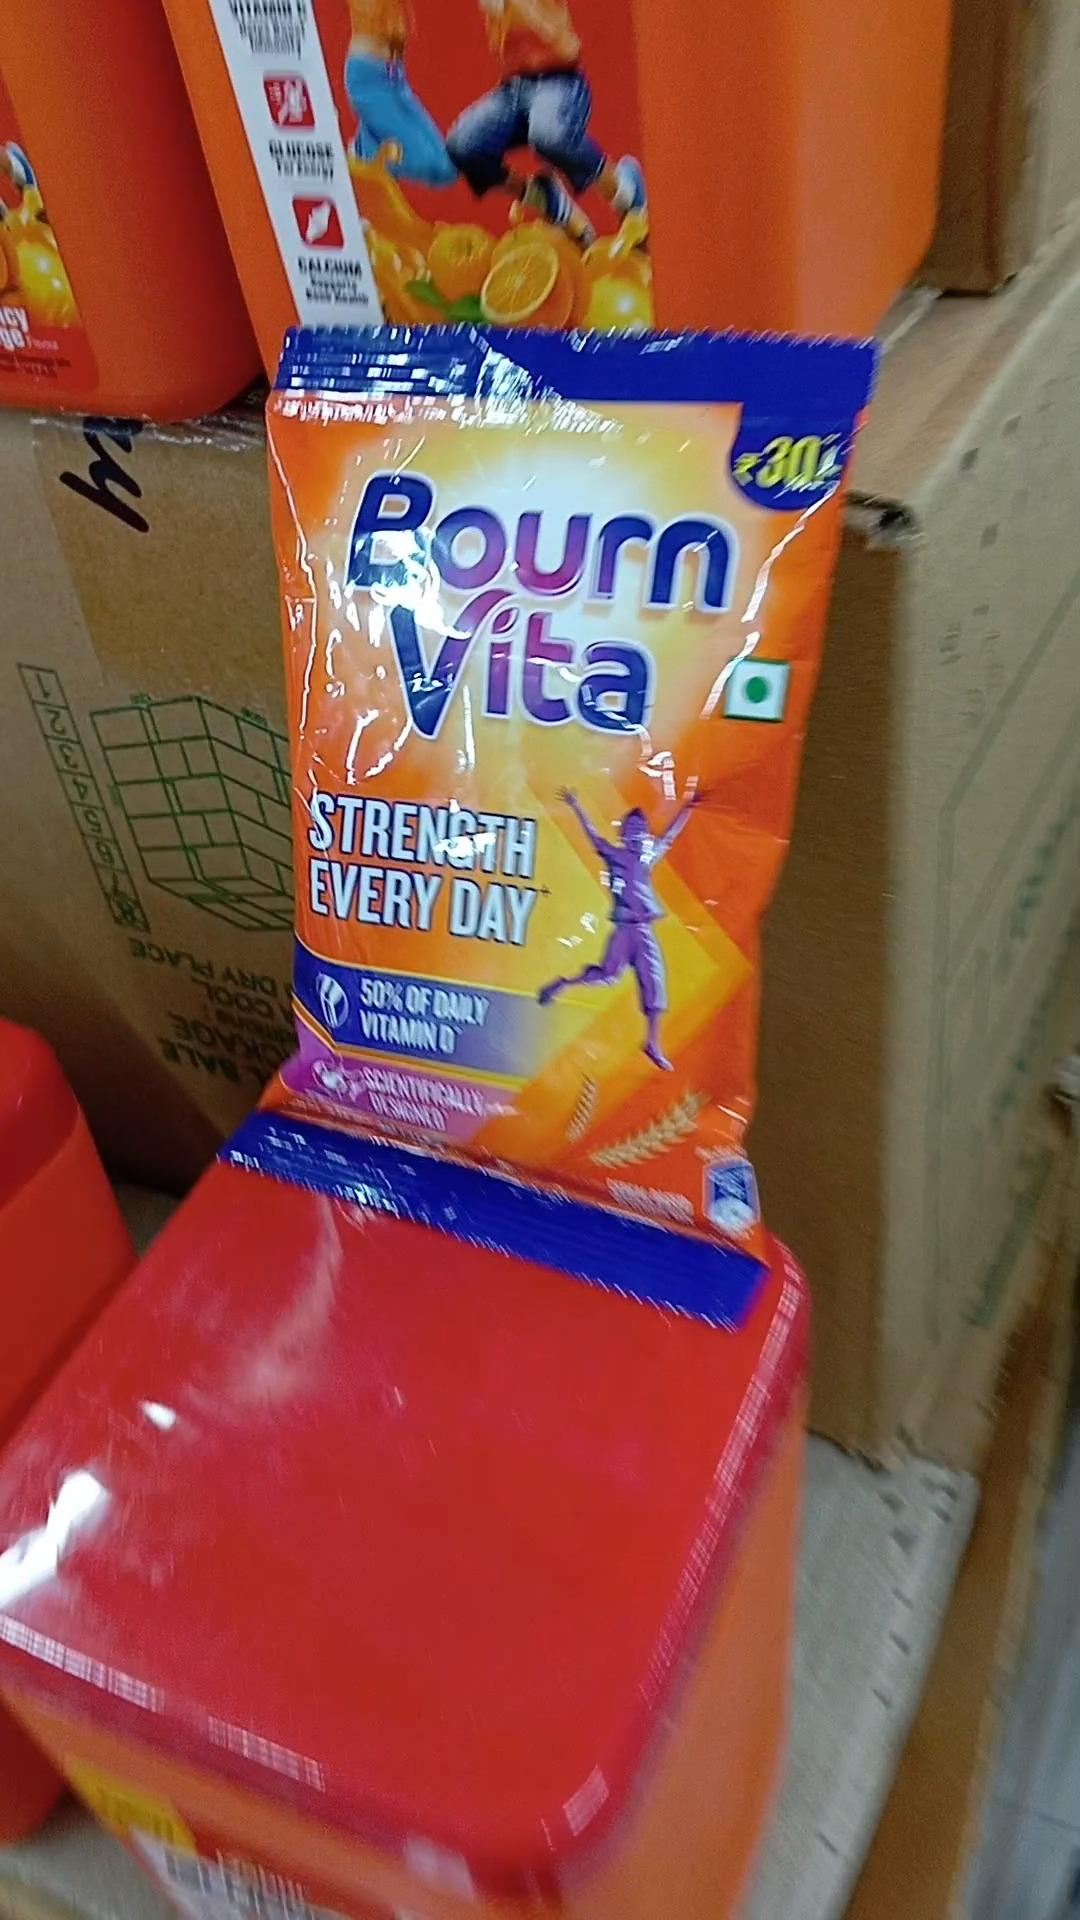BOURN_VITA_75_G_POUCH: (290, 335, 750, 1280)
